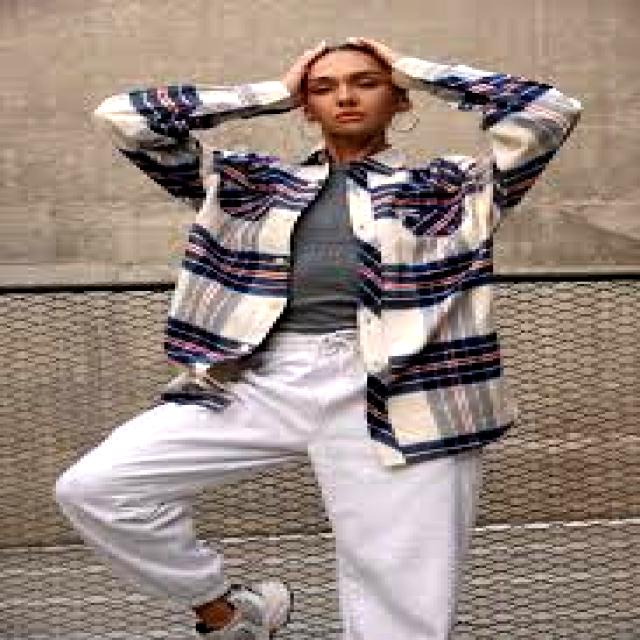face: (305, 52, 412, 139)
foot-wear: (196, 580, 293, 639)
lower-wear: (56, 331, 482, 639)
top-wear: (95, 82, 328, 409)
